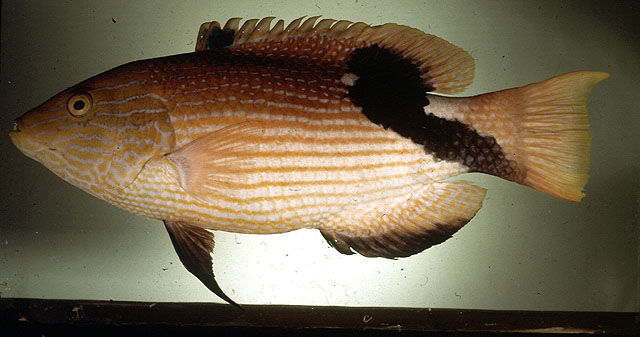fish: (11, 15, 610, 308)
